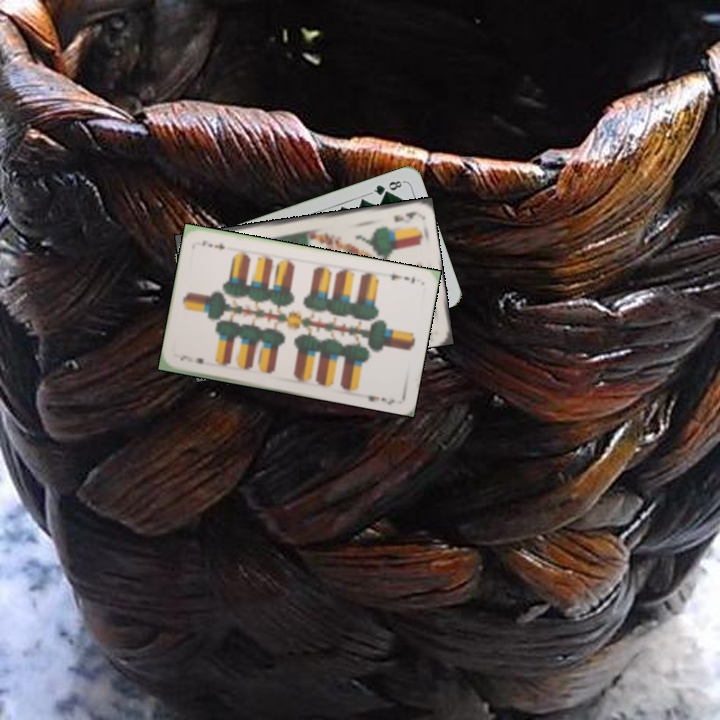E7: (386, 270, 418, 286), (176, 351, 206, 367)
EK: (390, 207, 418, 224)
G8: (367, 176, 406, 198)
